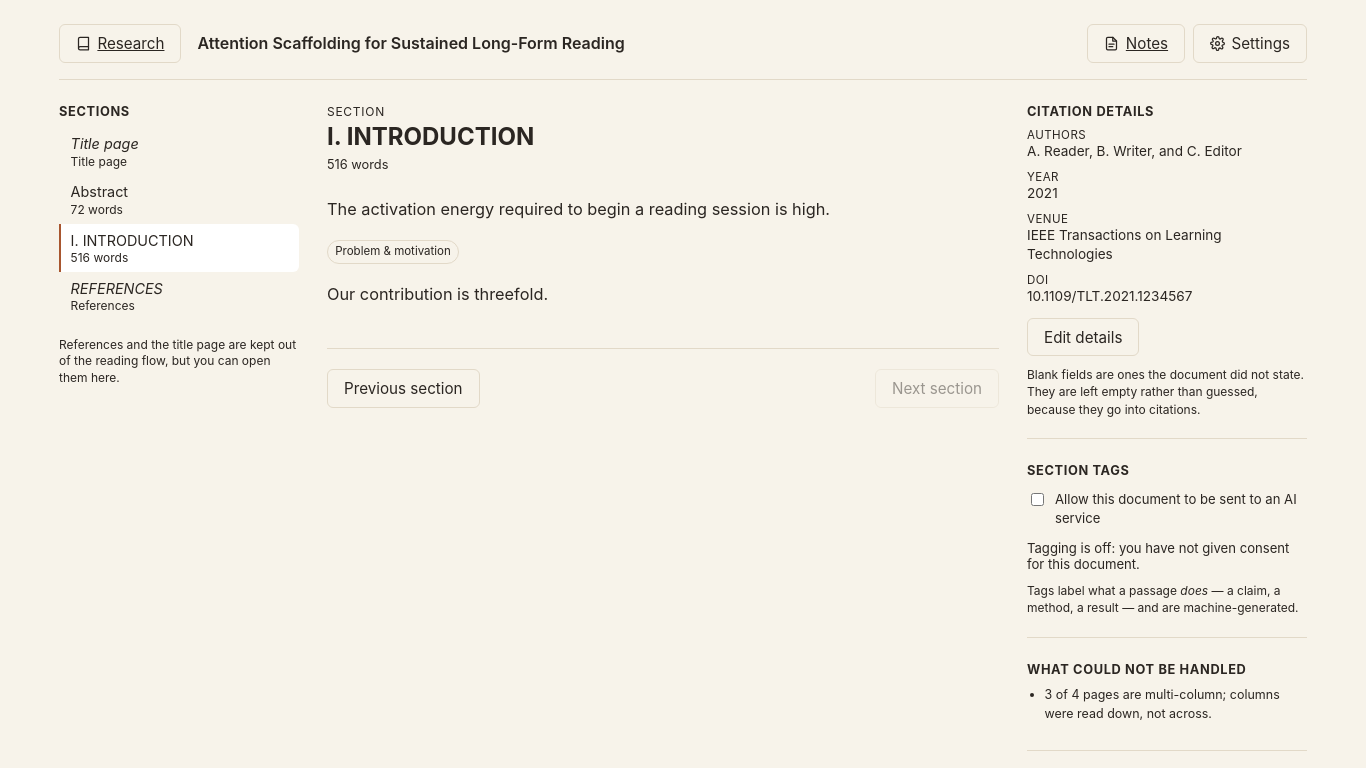
Test case: tagging controls › offers to start tagging once consent is given
Check: the heading "I. INTRODUCTION" is shown, box [327,122,534,151]
Click the checkbox labelled "Allow this document to be sent to an AI service" at {"x": 1038, "y": 500}, box [1031,493,1044,506]
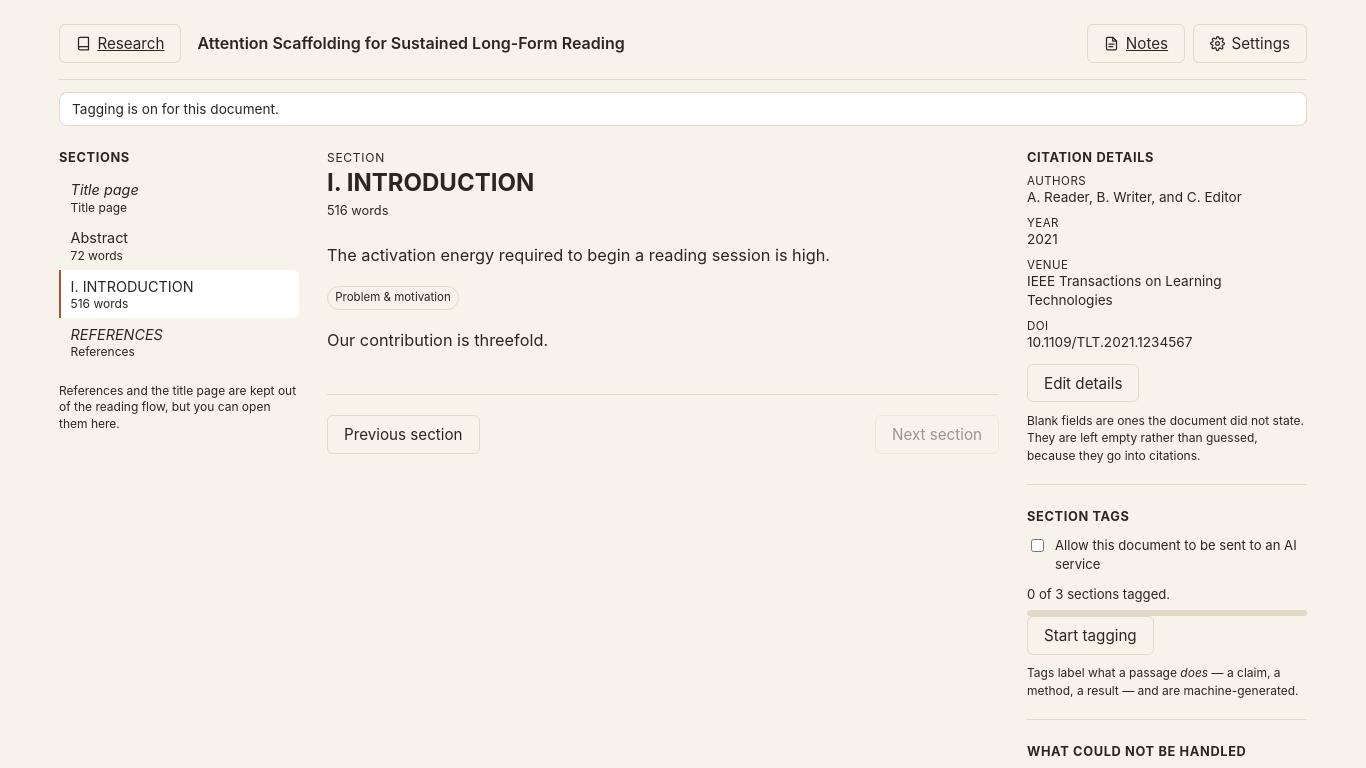
Check: the button "Start tagging" is shown, box [1027,616,1154,655]
